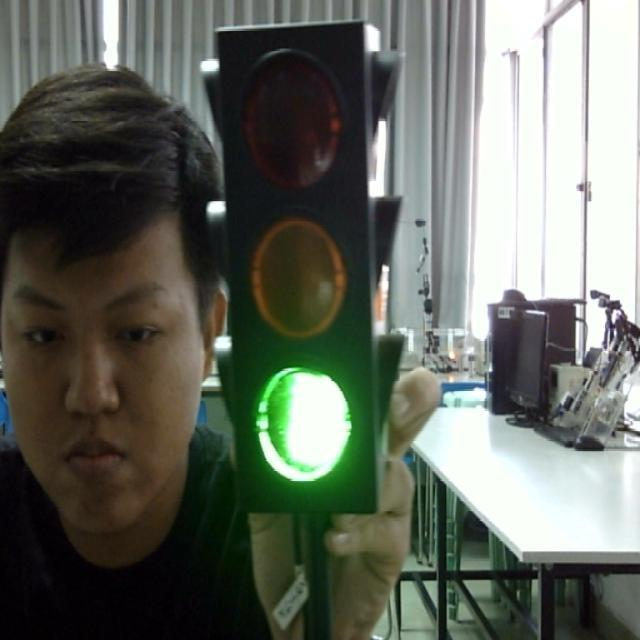green_light: (183, 20, 414, 516)
